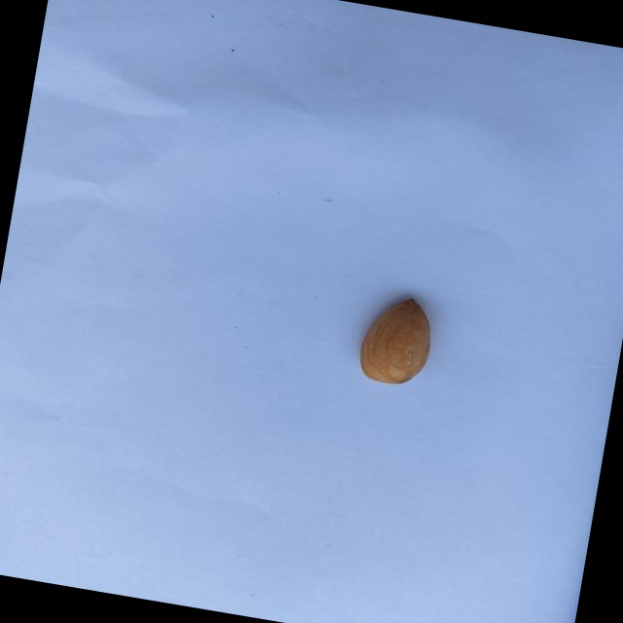grade2: (349, 288, 441, 393)
